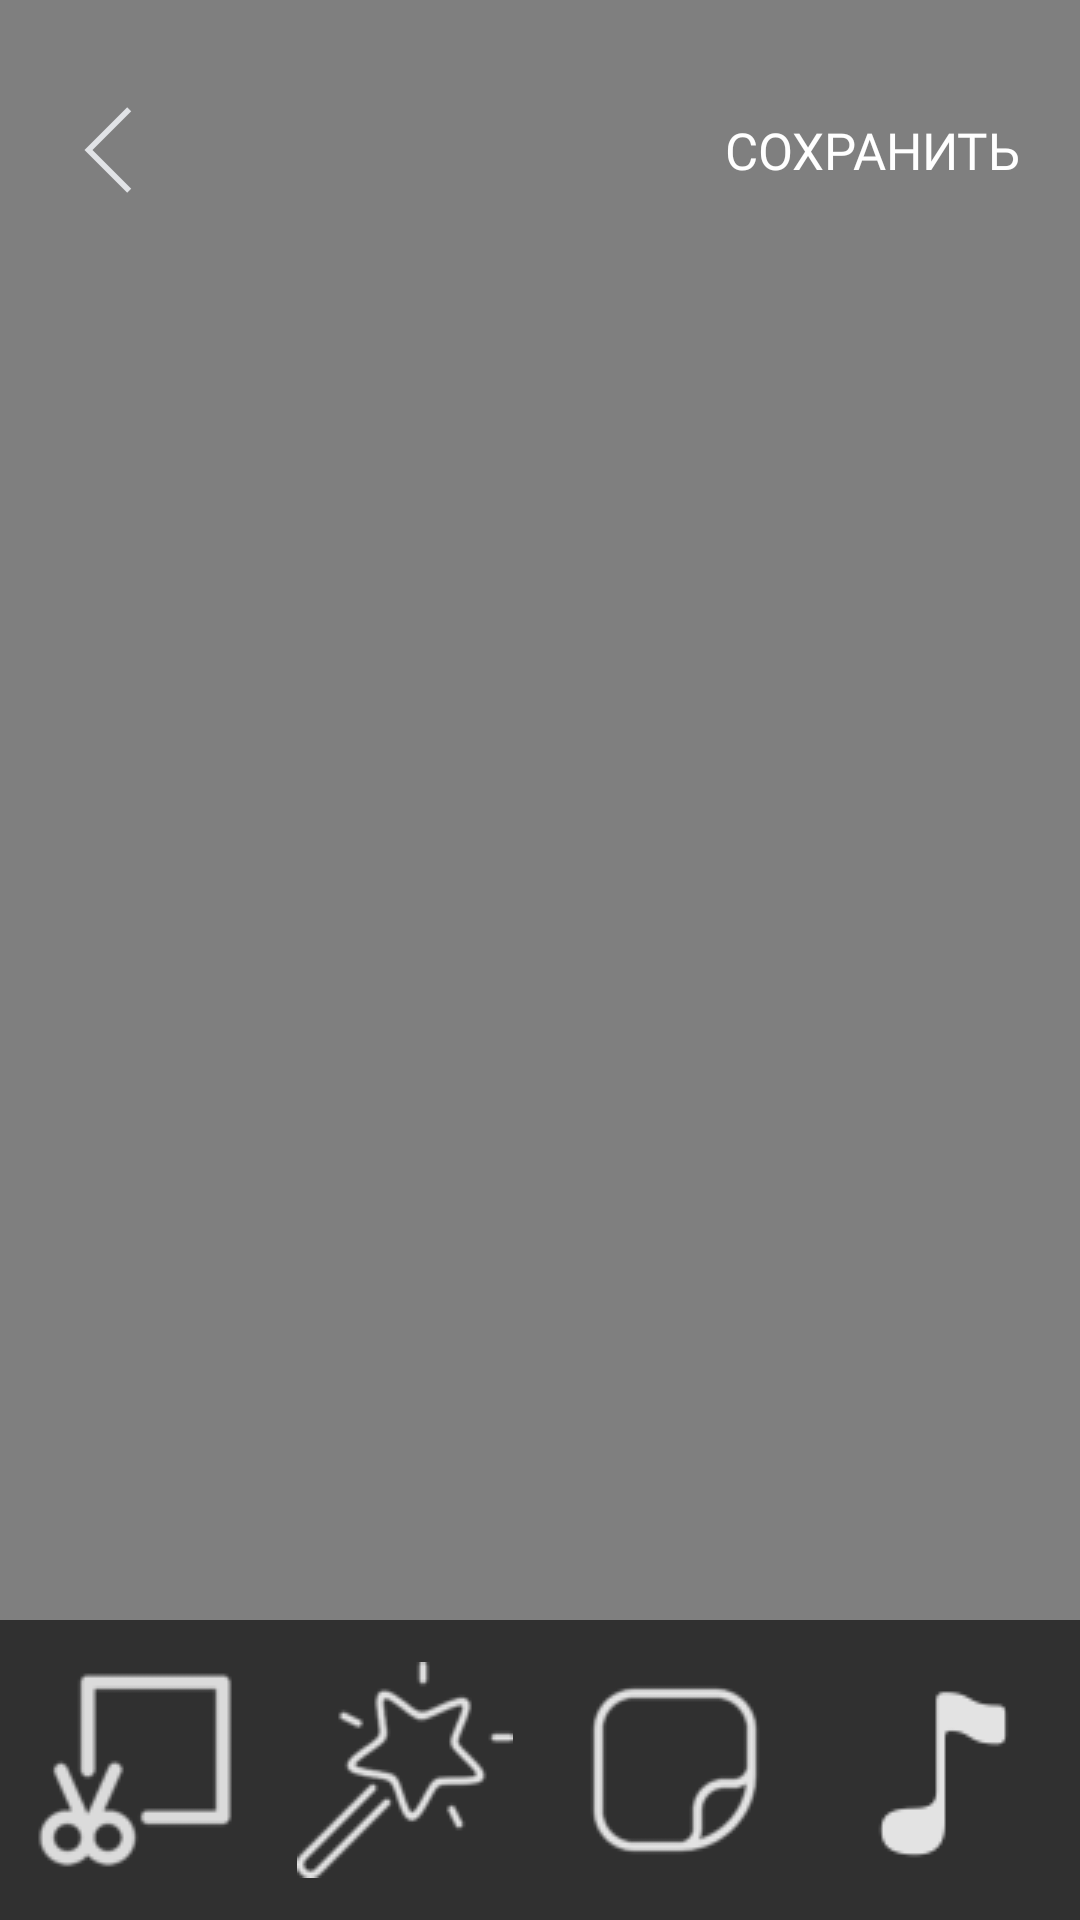

Icon bounding boxes for this 1080px x 1920px phone screenshot, format (x1, y1, x2, y2):
crop: (38, 1674, 232, 1867)
effects: (297, 1662, 513, 1878)
go back: (85, 107, 131, 193)
music: (880, 1691, 1006, 1857)
stickers: (593, 1688, 757, 1852)
